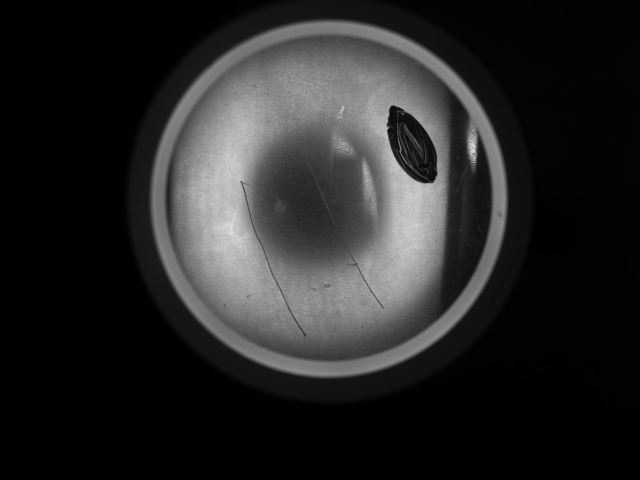ca_shang: (301, 151, 388, 311), (236, 178, 312, 338)
zang_wu: (385, 104, 438, 189)
